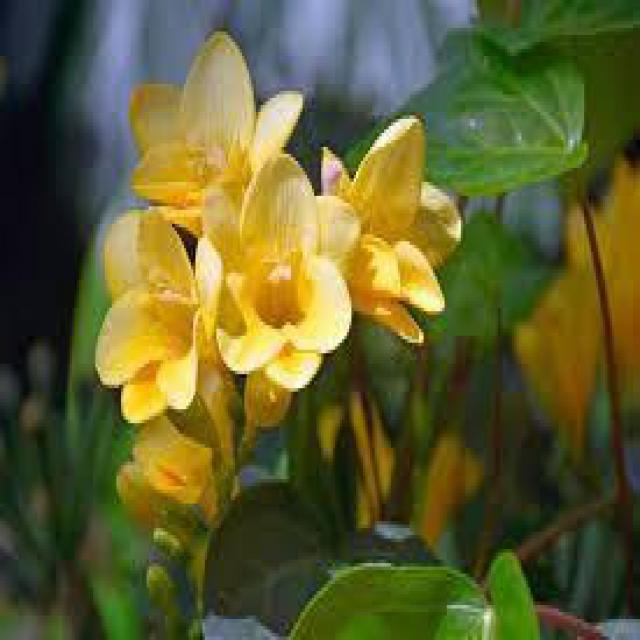freesia: (59, 30, 462, 476), (185, 162, 368, 404), (117, 41, 306, 251), (91, 194, 227, 436)
